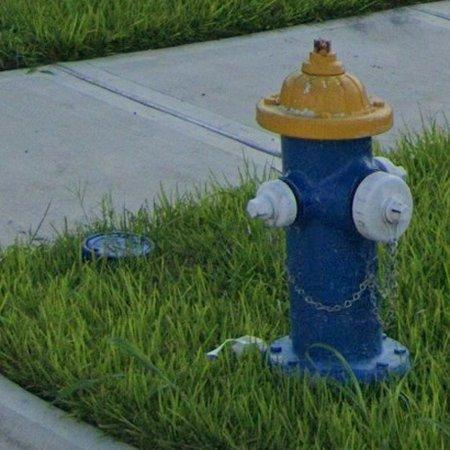a fire hydrant: (248, 39, 415, 382)
